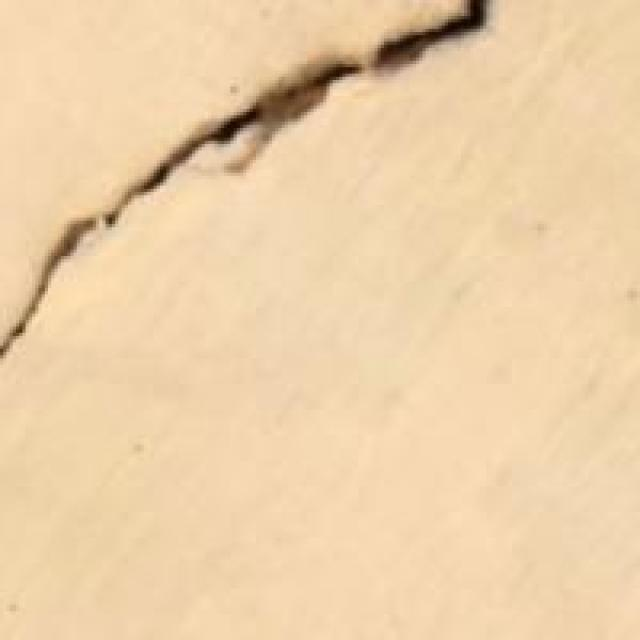crack: (6, 0, 512, 362)
